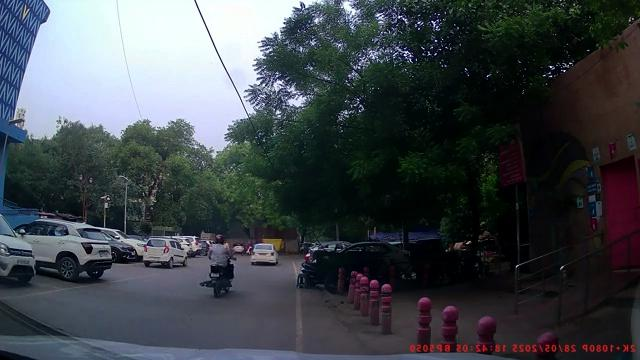motorcycle_with_helmet: (200, 233, 236, 298)
